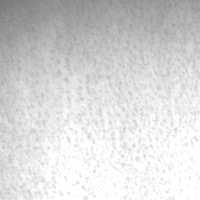pitted_surface: (22, 37, 198, 197)
